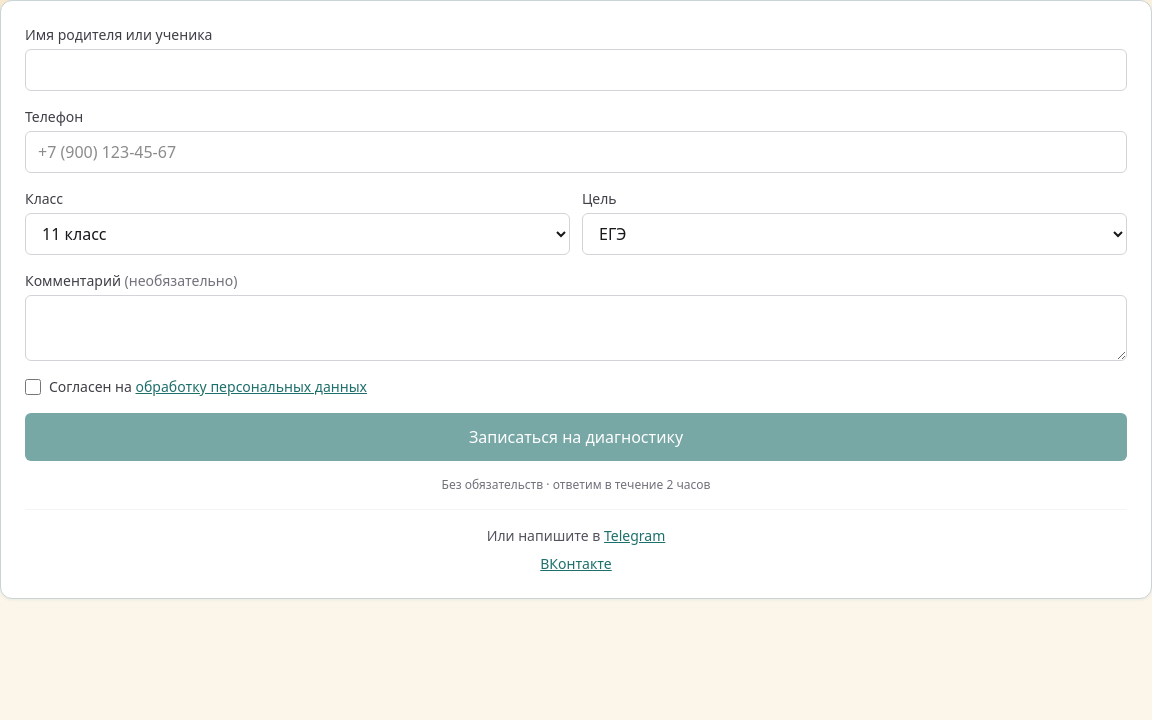
it: LeadForm › shows error message on submit failure
Type "Анна" into the field labelled "Имя родителя или ученика".
click(576, 70); type("Анна")  # box 25,49 -> 1127,91
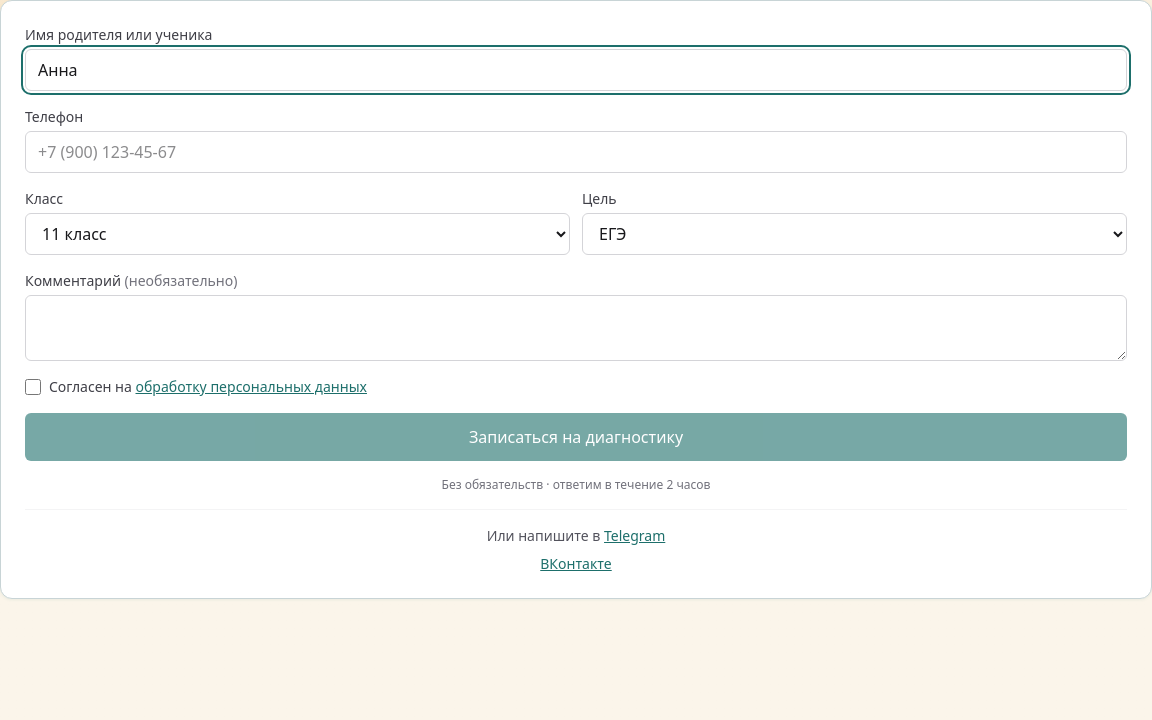
Type "+79001234567" into the field labelled "Телефон".
click(576, 152); type("+79001234567")  # box 25,131 -> 1127,173
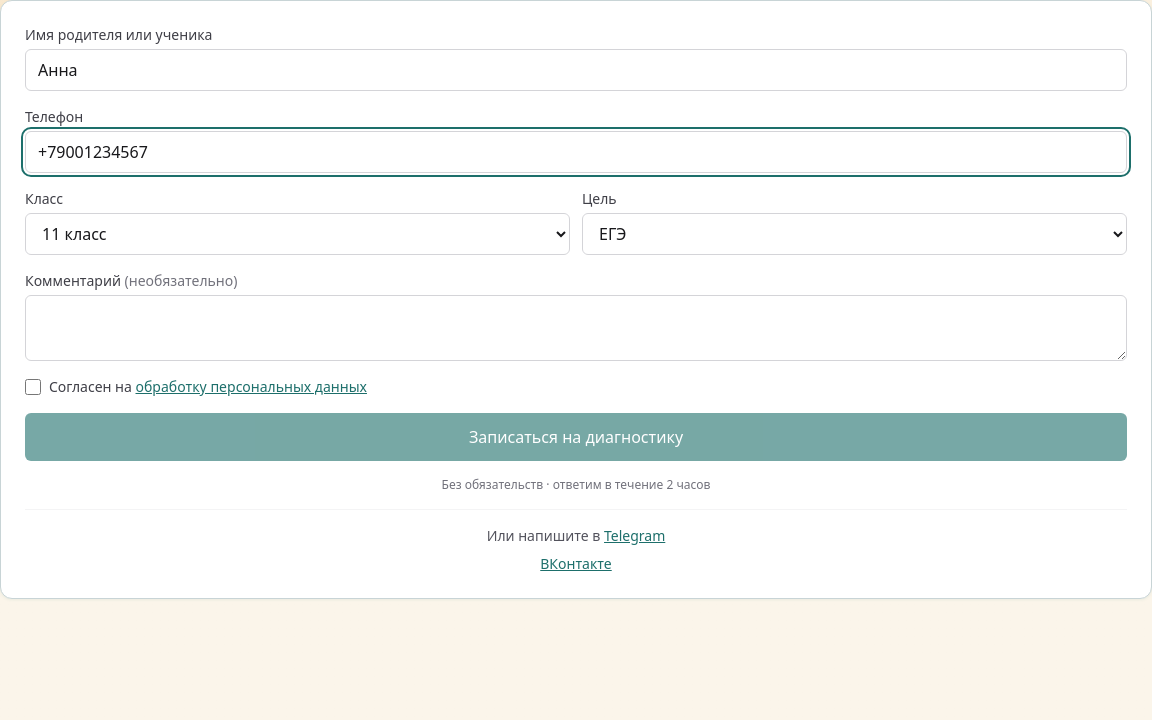
Click the checkbox.
click(33, 387)  # box 25,379 -> 41,395
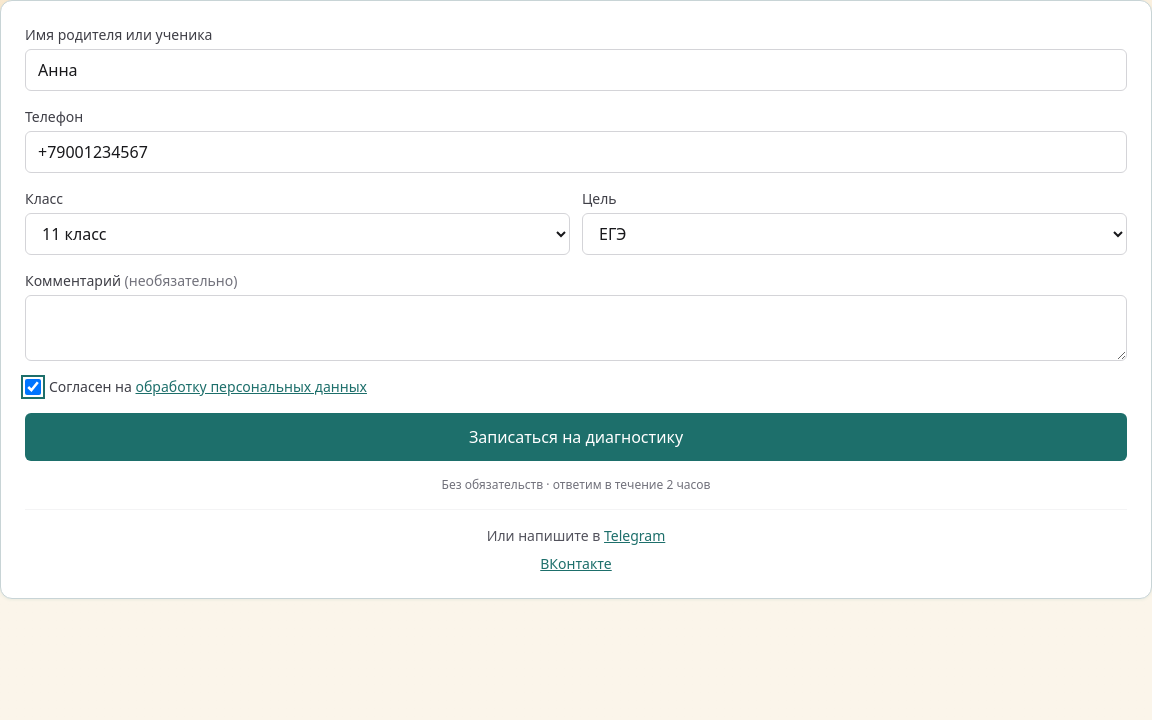
Click the button "Записаться на диагностику".
click(576, 437)  # box 25,413 -> 1127,461
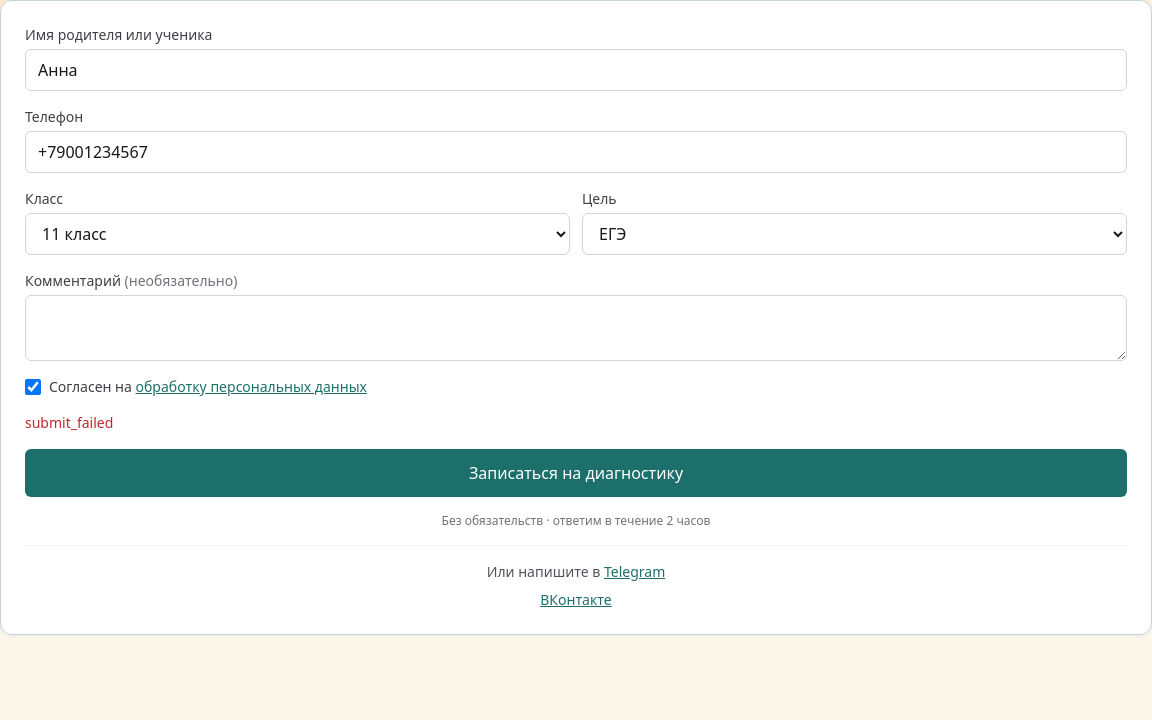
Check: the button "Записаться на диагностику" is enabled, box 25,449 -> 1127,497
Check: the message "submit_failed" is shown, box 25,413 -> 113,432
